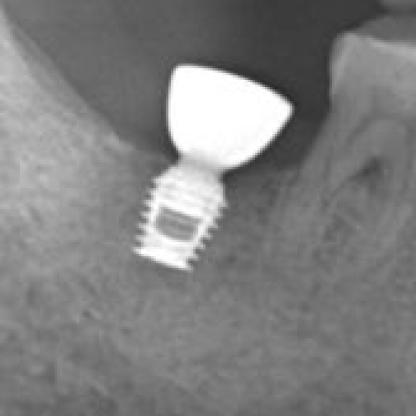Bicon: (107, 165, 253, 296)
